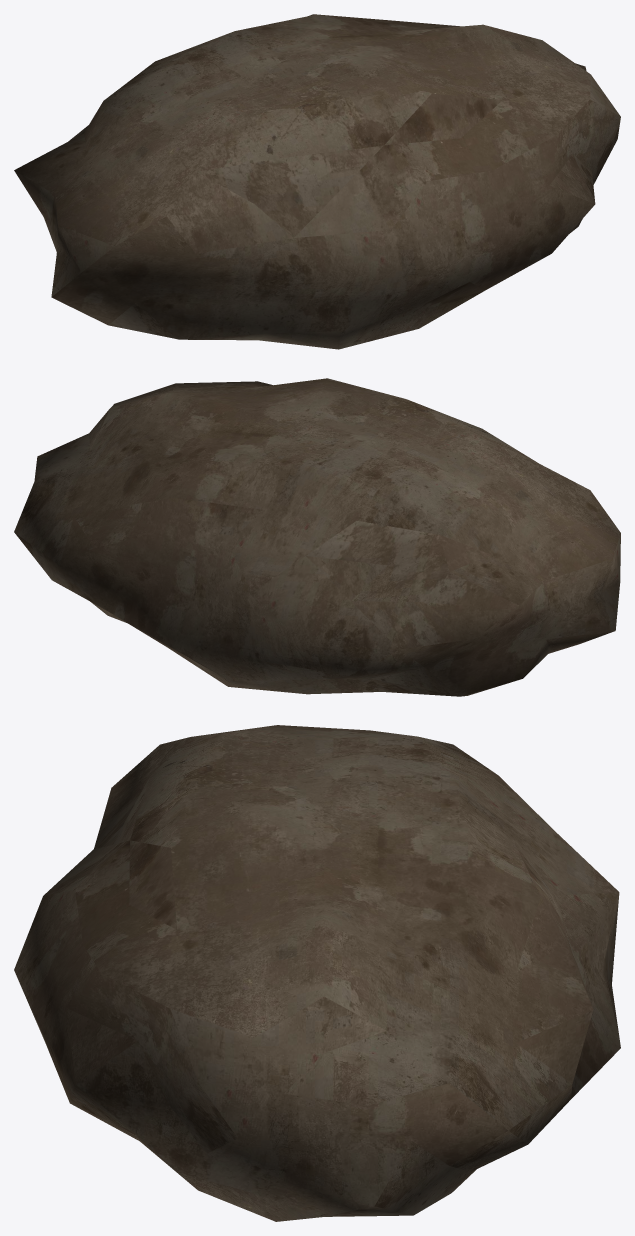
The model's file is industrial-boulder-low.glb.
3 renders of one model, top to bottom at view 1: azimuth 30°, elevation 25°; view 2: azimuth 150°, elevation 25°; view 3: azimuth 270°, elevation 25°, orthographic. The views are drawn at different scales.
Parts seen in each view (by area): view 1: industrial-boulder-low; view 2: industrial-boulder-low; view 3: industrial-boulder-low.
Part boxes in pixels (left/top/right/bottom): industrial-boulder-low: left=14, top=14, right=620, bottom=349; industrial-boulder-low: left=14, top=378, right=620, bottom=696; industrial-boulder-low: left=14, top=725, right=620, bottom=1221.
Size of the model in its own units: 3.08 by 1.2 by 2.11.
1 material, 1 textured.
